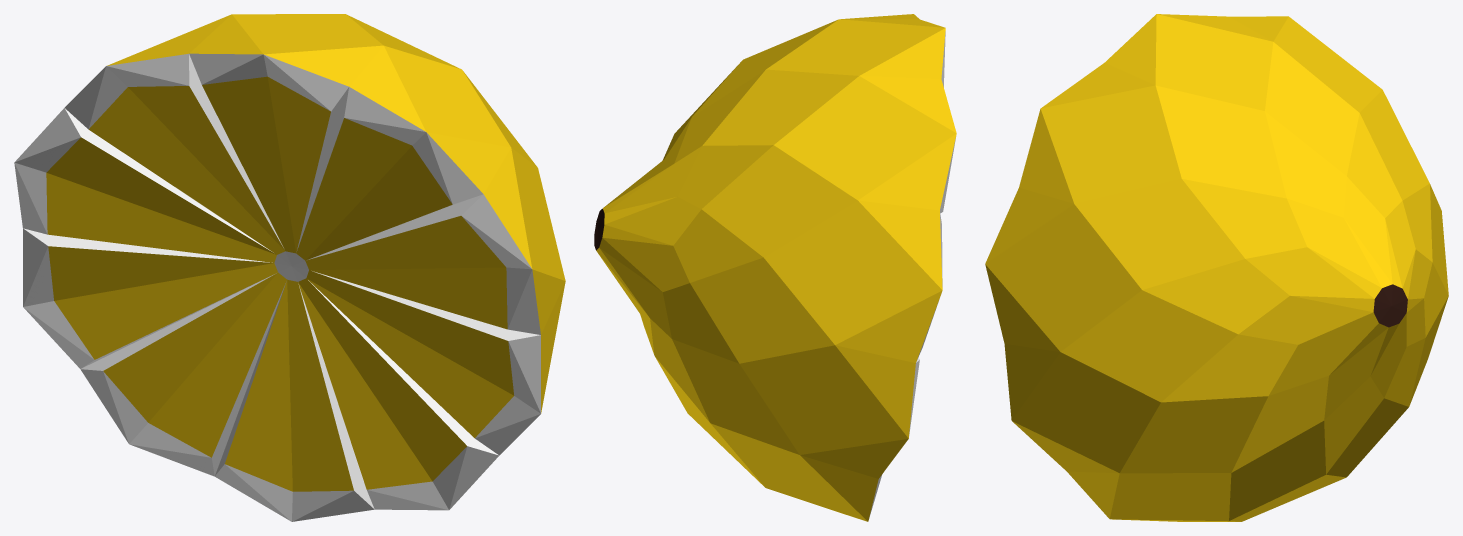
Rendered from Lemon_02(1).obj.
The picture shows the model from 3 angles, left to right: view 1: azimuth 30°, elevation 25°; view 2: azimuth 150°, elevation 25°; view 3: azimuth 270°, elevation 25°; orthographic projection. The views are drawn at different scales.
Parts seen in each view (by area): view 1: pSphere4; view 2: pSphere4; view 3: pSphere4.
Part boxes in pixels (bbox=[...]): pSphere4: bbox=[14, 14, 565, 521]; pSphere4: bbox=[594, 14, 956, 521]; pSphere4: bbox=[985, 14, 1448, 521].
Bounding box in the file's own units: 195 × 239 × 212.
